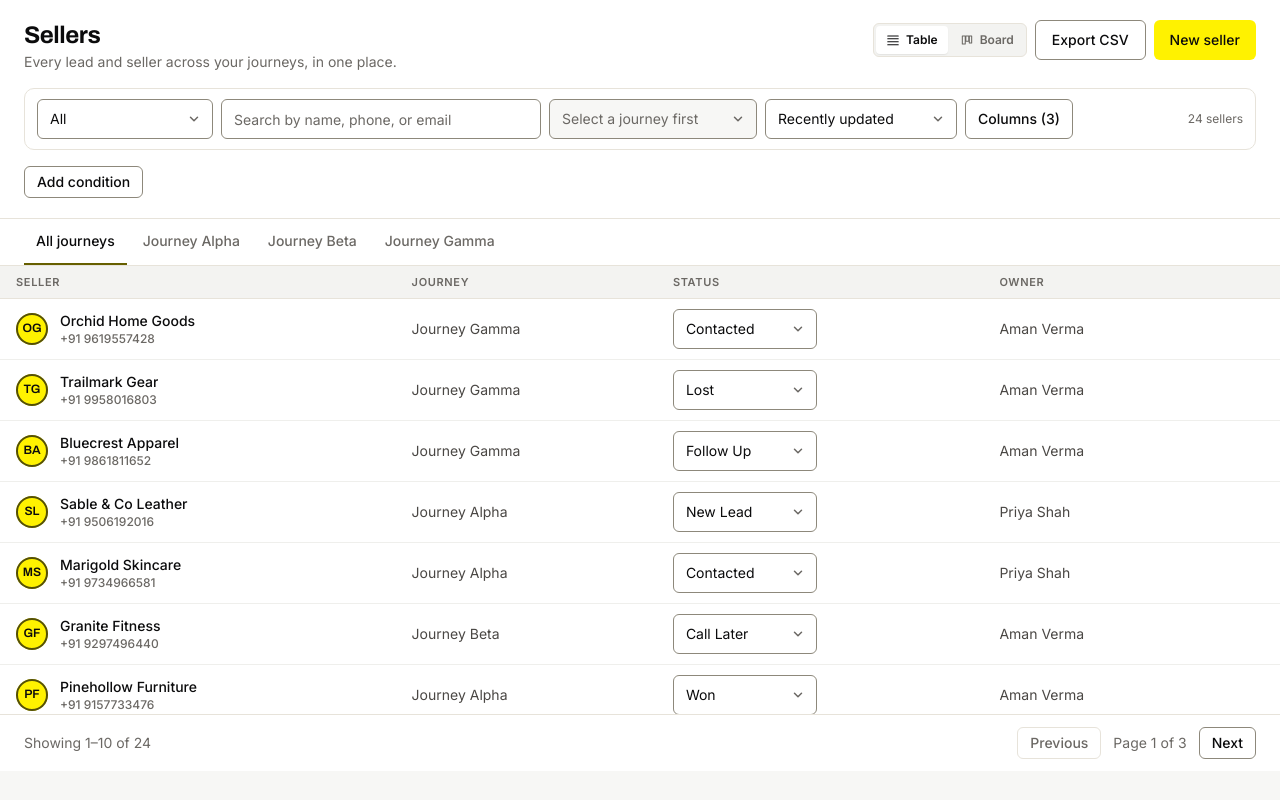
Scenario: seller list columns › refuses to hide the last context column rather than ignoring the click
Expected: the column heading "Owner" is shown, [983,266,1200,298]
Click the button "Columns (3)" at [1019, 119], box [965,99,1073,139]
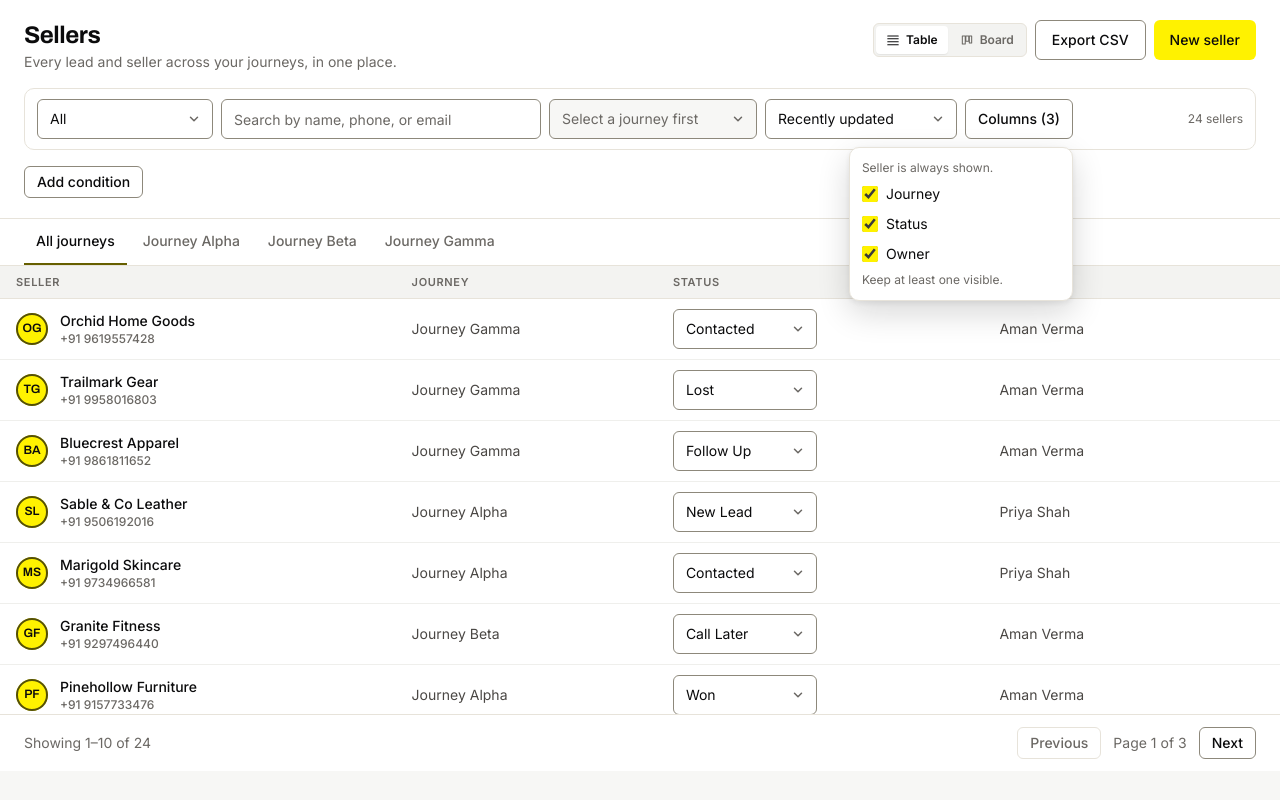
Scoped to the panel: "Journey" also names a filter-builder option.
Click the checkbox labelled "Owner" at [870, 254], box [862,246,878,262]
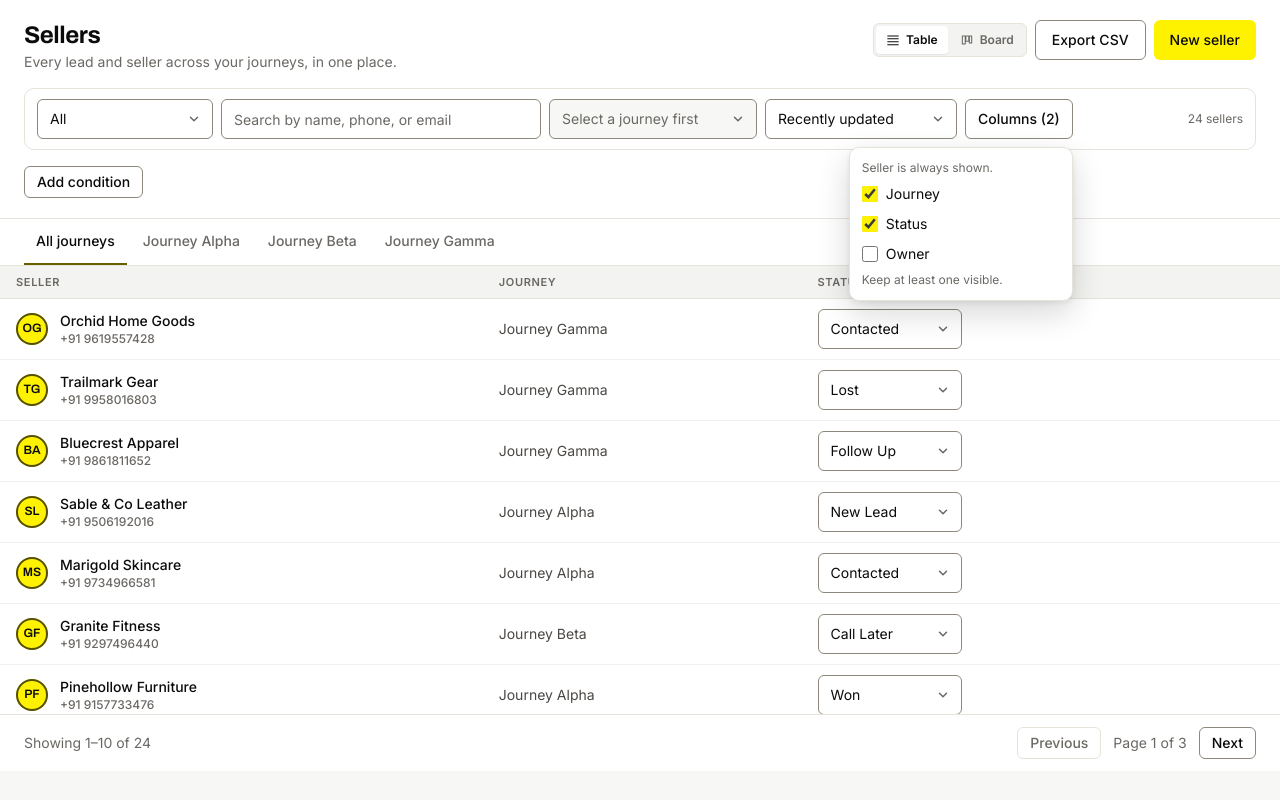
Click the checkbox labelled "Status" at [870, 224], box [862,216,878,232]
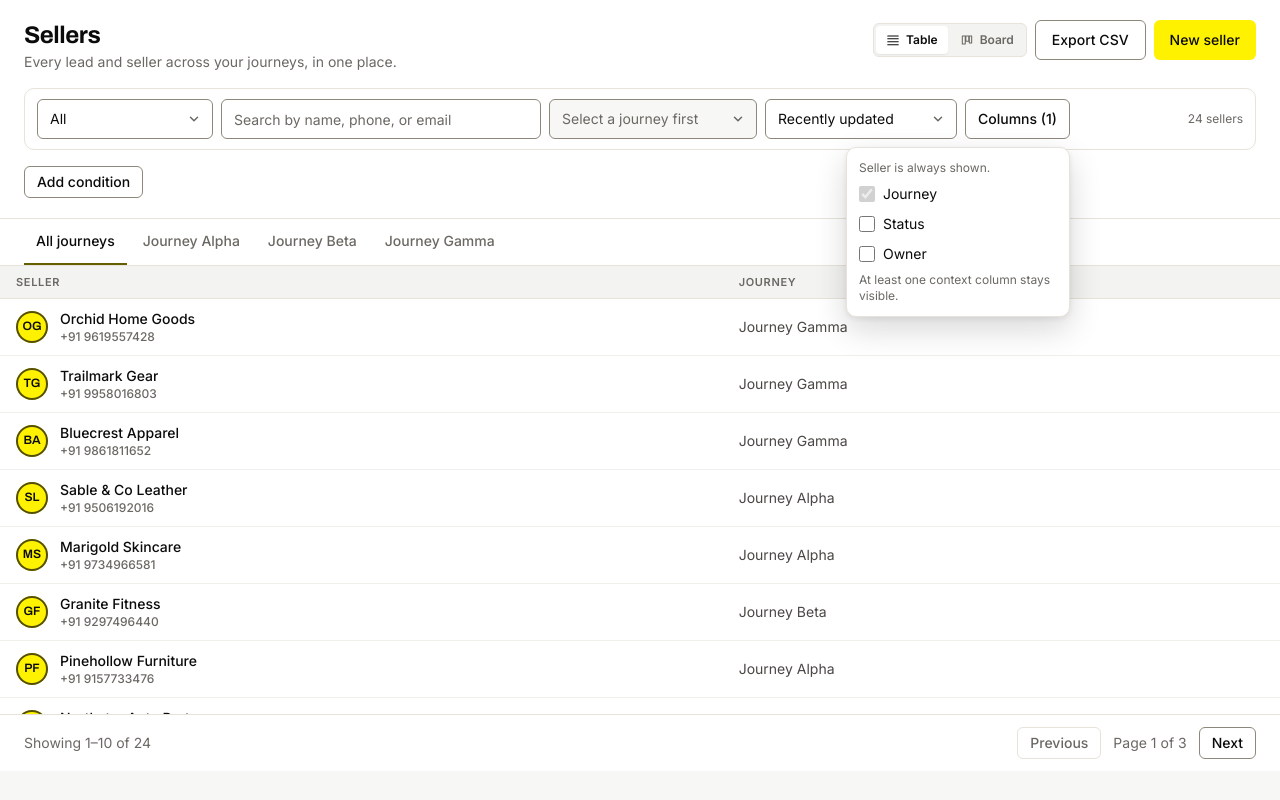
Expected: the column heading "Journey" is shown, [723,266,1200,298]
Expected: the checkbox labelled "Journey" is disabled, [859,186,875,202]
